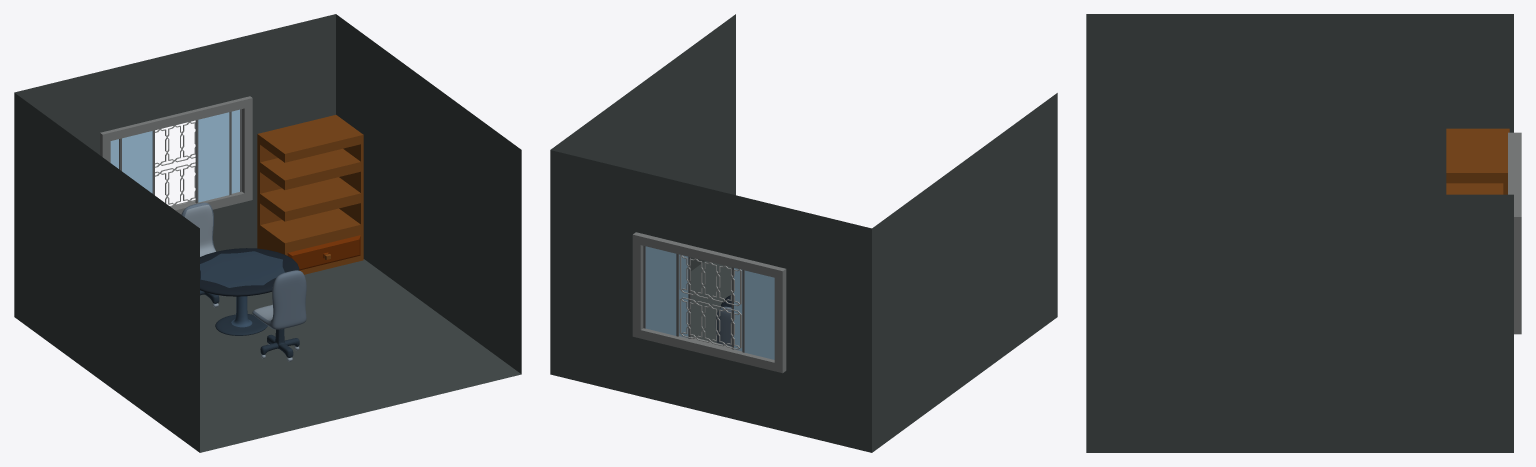
The model's file is SalaMestre.fbx.
3 renders of one model, left to right at view 1: azimuth 30°, elevation 25°; view 2: azimuth 150°, elevation 25°; view 3: azimuth 270°, elevation 25°, orthographic. The views are drawn at different scales.
Parts seen in each view (by area): view 1: Quarto_1, Cube, Grade, Mesa, Cadeira.001, Cadeira; view 2: Quarto_1, Grade; view 3: Quarto_1, Cube.
Boxes of the visible parts, left/top/right/bottom form: Quarto_1: left=14, top=14, right=521, bottom=452; Cube: left=257, top=115, right=363, bottom=274; Grade: left=110, top=109, right=241, bottom=207; Mesa: left=200, top=248, right=299, bottom=335; Cadeira.001: left=252, top=270, right=306, bottom=361; Cadeira: left=181, top=202, right=223, bottom=307; Quarto_1: left=550, top=14, right=1057, bottom=452; Grade: left=643, top=246, right=774, bottom=359; Quarto_1: left=1086, top=14, right=1521, bottom=452; Cube: left=1446, top=128, right=1509, bottom=194.
Bounding box in the file's own units: 6 × 4 × 6.11.
